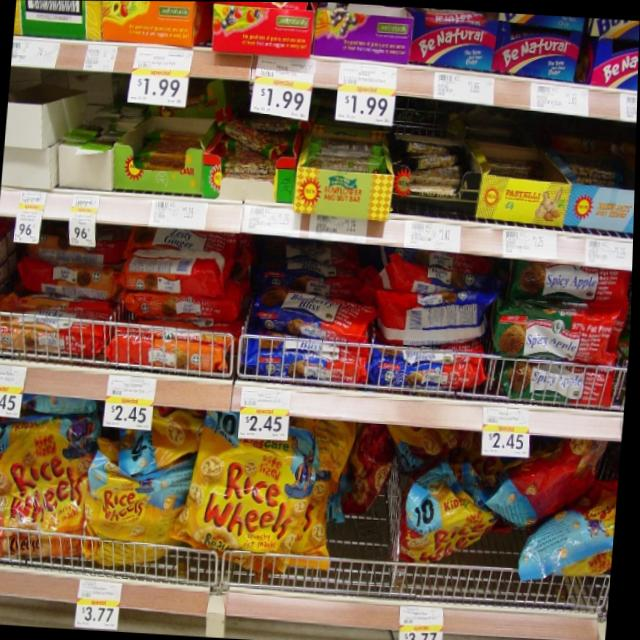q37: (186, 412, 329, 582), (0, 413, 104, 568)
